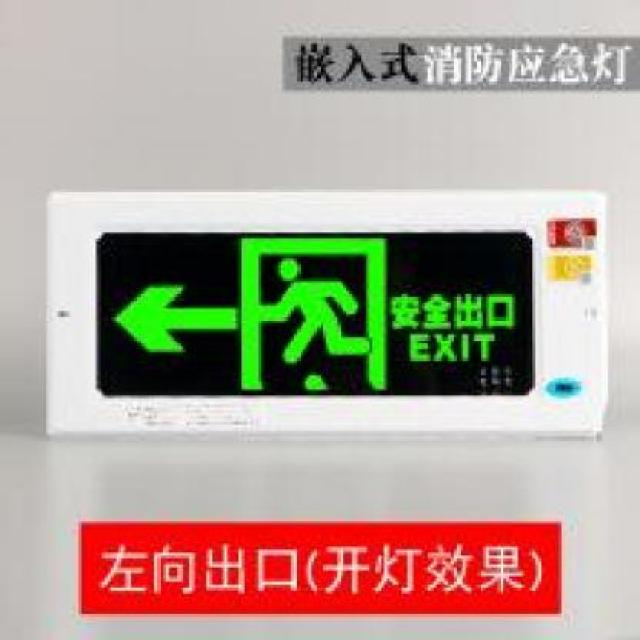exit_sign: (89, 228, 533, 398)
